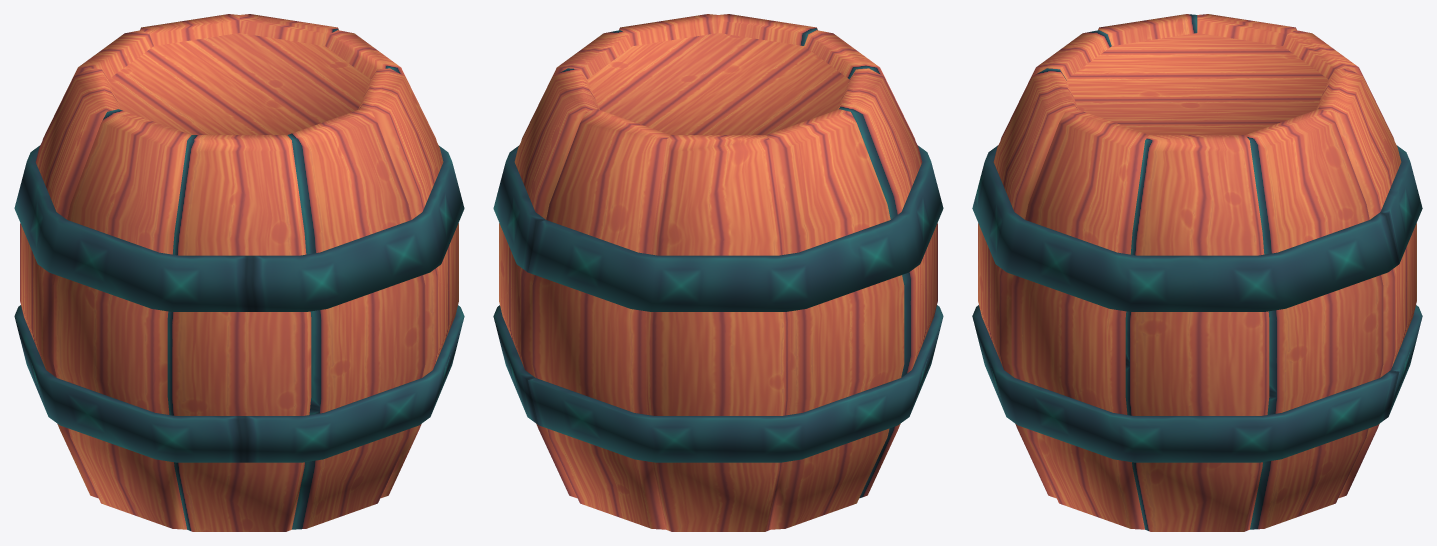
File: Barrel.fbx
The picture shows the model from 3 angles, left to right: view 1: azimuth 30°, elevation 25°; view 2: azimuth 150°, elevation 25°; view 3: azimuth 270°, elevation 25°; orthographic projection.
Visible parts, largest first — view 1: Barrel; view 2: Barrel; view 3: Barrel.
Boxes of the visible parts, x1=… form: Barrel: x1=14, y1=14, x2=464, y2=531; Barrel: x1=493, y1=14, x2=943, y2=531; Barrel: x1=972, y1=14, x2=1422, y2=531.
Size of the model in its own units: 1.24 by 1.2 by 1.26.
